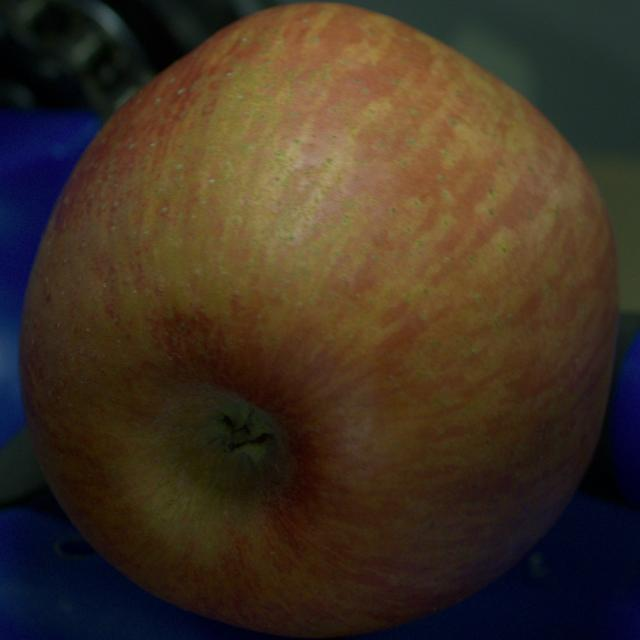apple: (19, 4, 618, 636)
